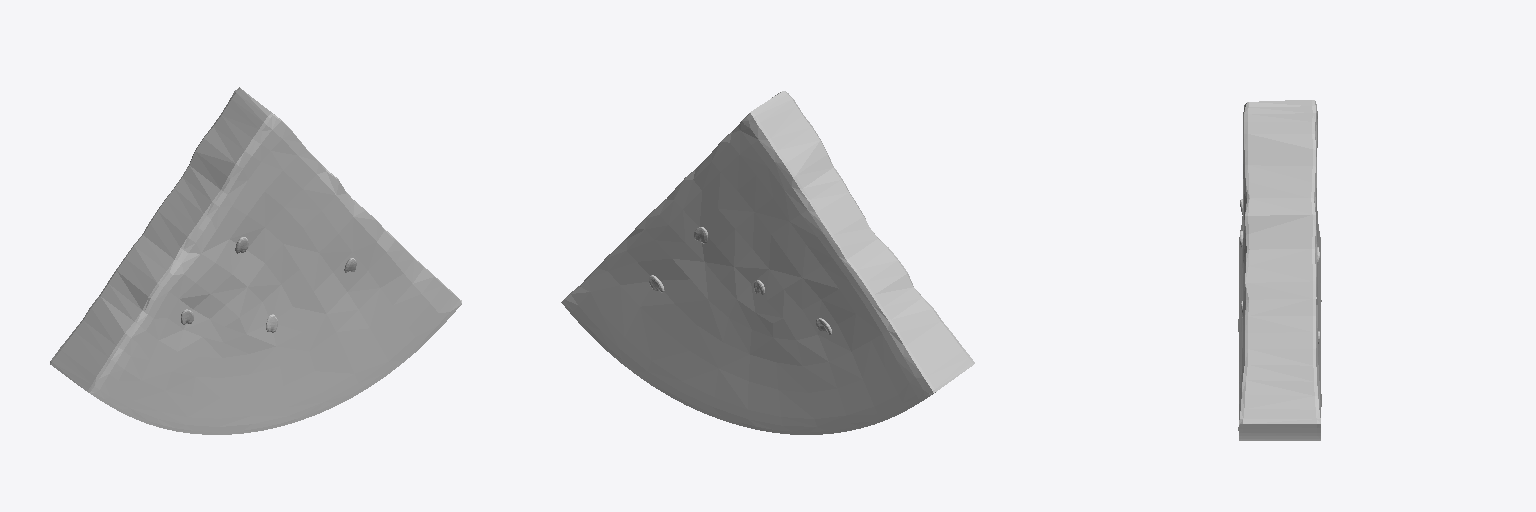
File: watermelonSlice.obj
The picture shows the model from 3 angles: view 1: azimuth 30°, elevation 25°; view 2: azimuth 150°, elevation 25°; view 3: azimuth 270°, elevation 25°; orthographic projection.
Visible parts, largest first — view 1: watermelon_slice.1; view 2: watermelon_slice.1; view 3: watermelon_slice.1.
Boxes of the visible parts, <box> form: watermelon_slice.1: <box>50,87,461,434</box>; watermelon_slice.1: <box>561,91,974,434</box>; watermelon_slice.1: <box>1238,100,1321,440</box>.
Bounding box in the file's own units: 0.0141 × 0.0113 × 0.0027.